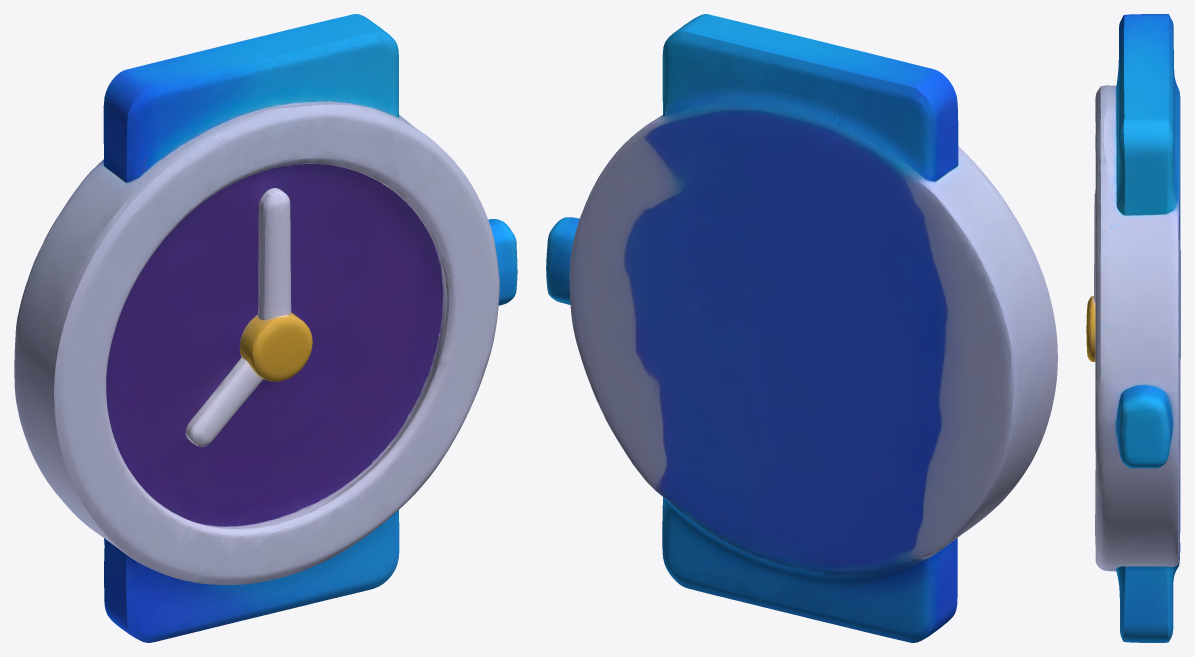
The model's file is watch.glb.
3 views of the same model, side by side, from view 1: azimuth 30°, elevation 25°; view 2: azimuth 150°, elevation 25°; view 3: azimuth 270°, elevation 25° (orthographic). The views are drawn at different scales.
Parts seen in each view (by area): view 1: model; view 2: model; view 3: model.
Boxes of the visible parts, left/top/right/bottom form: model: left=14, top=14, right=517, bottom=642; model: left=546, top=14, right=1057, bottom=642; model: left=1086, top=14, right=1180, bottom=642.
Size of the model in its own units: 0.8982 by 1 by 0.1631.
Materials: 1 (1 with a texture image).
